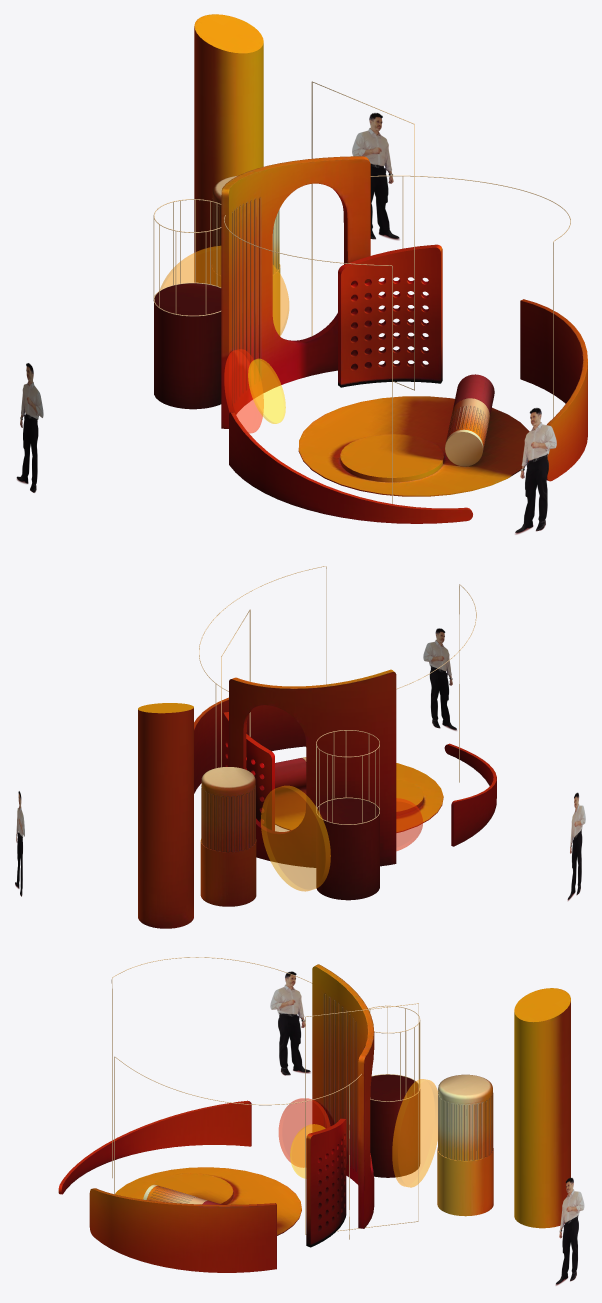
3 renders of one model, top to bottom at view 1: azimuth 30°, elevation 25°; view 2: azimuth 150°, elevation 25°; view 3: azimuth 270°, elevation 25°, orthographic. The views are drawn at different scales.
Visible parts, largest first — view 1: Circle.037, Circle.038, Cylinder.656, Cylinder.651, Cylinder.654, Circle.035, Circle.036, Cylinder.661, woman_01.006, Cylinder.655, woman_01.007, Cylinder.657 (+9 smaller); view 2: Circle.037, Cylinder.656, Cylinder.653, Cylinder.654, Cylinder.655, Circle.035, Cylinder.651, Circle.036, Circle.038, woman_01.006, Cylinder.659, Cylinder.657 (+5 smaller); view 3: Cylinder.656, Circle.035, Circle.037, Cylinder.653, Circle.036, Cylinder.654, Circle.038, Cylinder.655, Cylinder.651, woman_01.008, Cylinder.657, woman_01.007 (+6 smaller).
Part boxes in pixels (x1,y1,x2,y2): Circle.037: (221,156,370,428); Circle.038: (338,244,442,387); Cylinder.656: (194,14,263,284); Cylinder.651: (298,396,529,496); Cylinder.654: (153,283,221,409); Circle.035: (520,299,587,481); Circle.036: (229,412,472,523); Cylinder.661: (340,434,443,482); woman_01.006: (515,408,556,534); Cylinder.655: (160,245,289,336); woman_01.007: (352,113,399,240); Cylinder.657: (224,349,263,433); Circle.037: (229,669,396,867); Cylinder.656: (138,703,193,928); Cylinder.653: (200,767,256,906); Cylinder.654: (316,798,379,900); Cylinder.655: (261,785,330,891); Circle.035: (194,697,305,793); Cylinder.651: (275,763,443,832); Circle.036: (444,743,496,846); Circle.038: (222,712,274,830); woman_01.006: (423,628,456,730); Cylinder.659: (316,730,379,824); Cylinder.657: (396,798,423,850); Cylinder.656: (514,988,570,1228); Circle.035: (89,1188,276,1272); Circle.037: (312,964,374,1228); Cylinder.653: (437,1074,493,1216); Circle.036: (58,1100,251,1194); Cylinder.654: (370,1074,420,1177); Circle.038: (306,1118,346,1247); Cylinder.655: (392,1079,437,1187); Cylinder.651: (115,1167,301,1235); woman_01.008: (270,971,310,1075); Cylinder.657: (278,1098,330,1167); woman_01.007: (555,1177,584,1285).
Size of what is drawn, in the model's own units: 12.43 by 5.97 by 14.08.
Materials: 14 (10 with a texture image).
